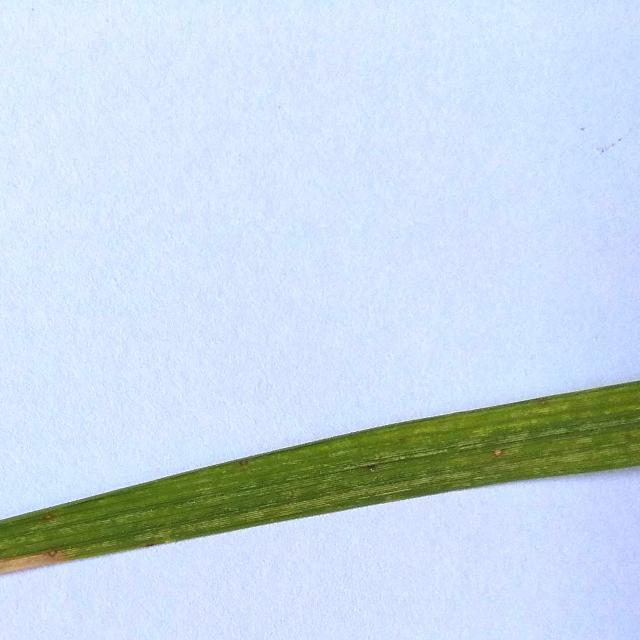Blast: (40, 513, 66, 526), (46, 546, 62, 559), (490, 446, 505, 458)
